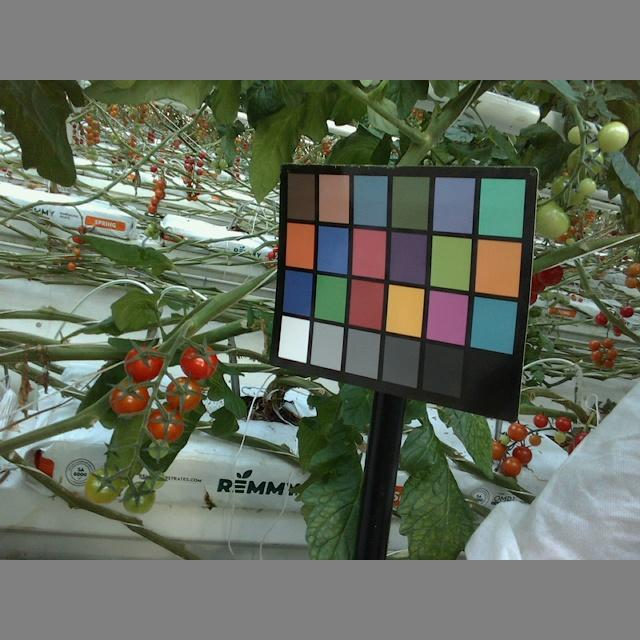green: (83, 467, 122, 507), (535, 198, 569, 237), (123, 479, 156, 514), (597, 122, 630, 154), (574, 176, 597, 197), (149, 437, 170, 459), (146, 468, 166, 489)
pink: (513, 442, 532, 465), (505, 422, 529, 440), (502, 455, 521, 477)
red: (109, 380, 151, 419), (145, 405, 185, 445), (124, 344, 166, 382), (180, 343, 218, 380), (163, 377, 203, 412)
